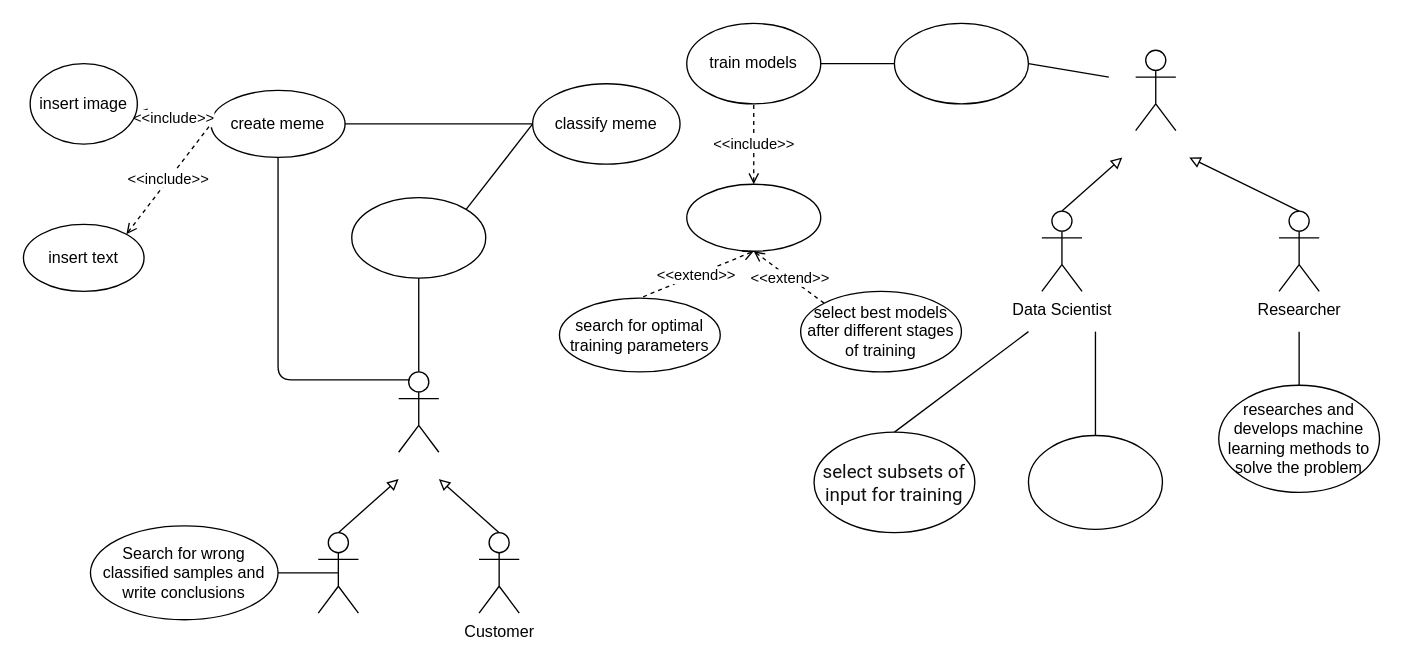
Image size: 1403x665. Some labels were removed from this diagram. The box of each missing label's shape, as (x1, y1, x2, y2) in pixels:
Developer: (1134, 49, 1176, 131)
do statistical analysis: (1027, 434, 1162, 529)
fine tuning: (685, 183, 821, 251)
implemenst ML solutions: (893, 22, 1028, 104)
receive meme generated: (350, 196, 486, 278)
Tester: (317, 531, 358, 613)
User: (397, 371, 439, 452)
